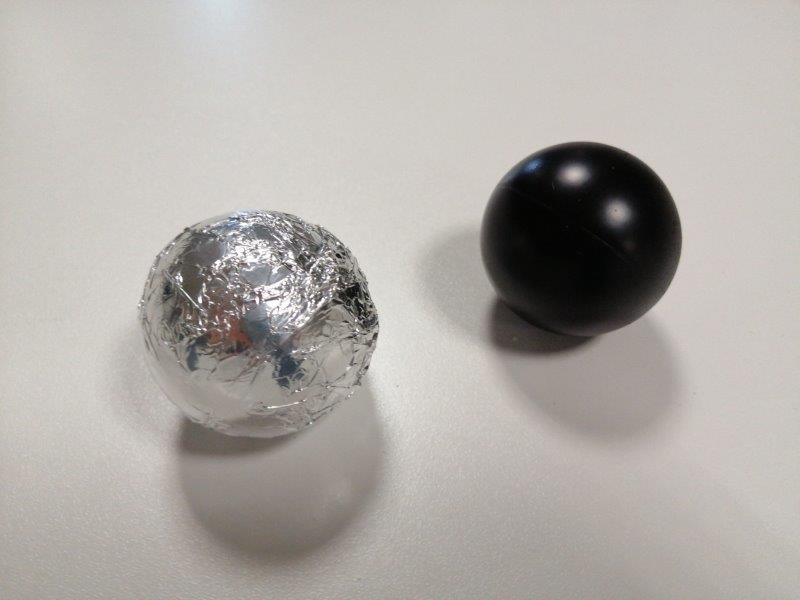bianca: (138, 208, 378, 440)
nera: (479, 143, 682, 337)
